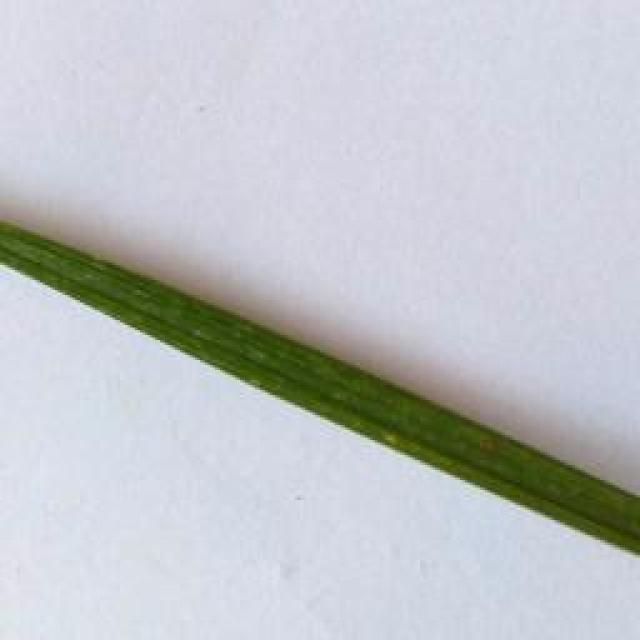Brown_Spot: (457, 426, 513, 462)
